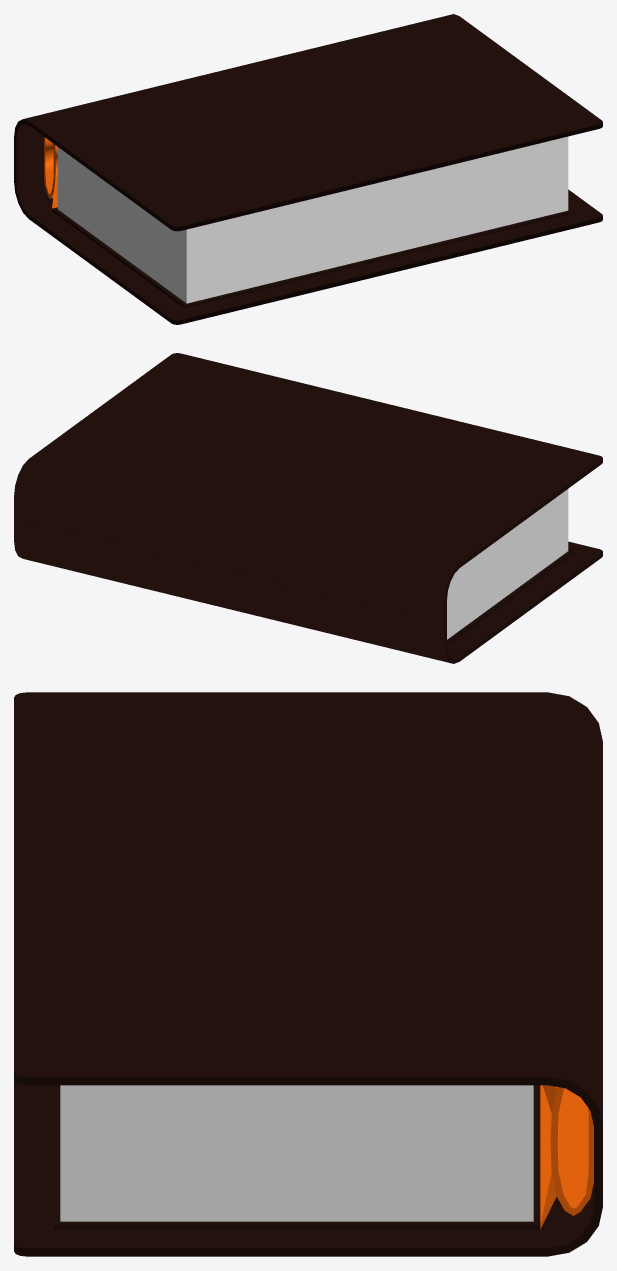
The model's file is SM_Book.FBX.
3 views of the same model, one above another, from view 1: azimuth 30°, elevation 25°; view 2: azimuth 150°, elevation 25°; view 3: azimuth 270°, elevation 25° (orthographic). The views are drawn at different scales.
Visible parts, largest first — view 1: SM_Book; view 2: SM_Book; view 3: SM_Book.
Boxes of the visible parts, <box> form: SM_Book: <box>14,14,602,324</box>; SM_Book: <box>14,353,602,663</box>; SM_Book: <box>14,692,602,1256</box>.
Size of the model in its own units: 42.45 by 27.47 by 9.23.
